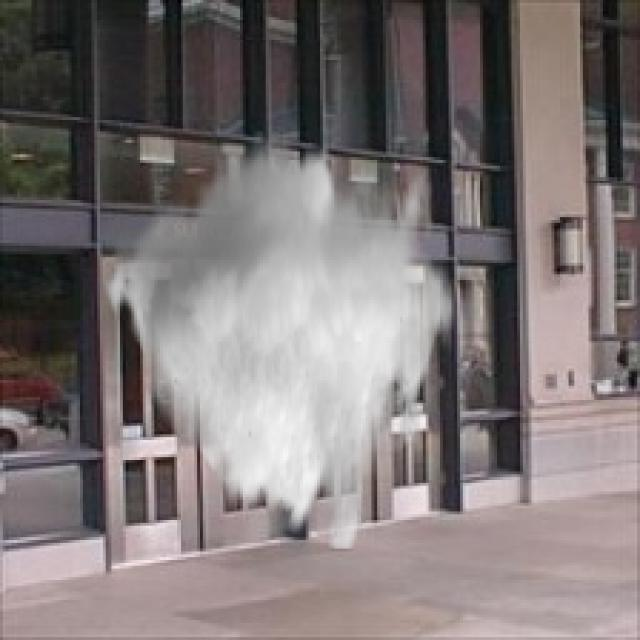Smoke: (97, 132, 454, 552)
